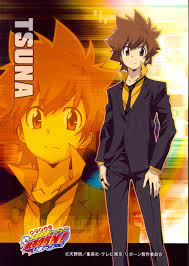Tsuna: (11, 49, 96, 163), (107, 16, 160, 70)
